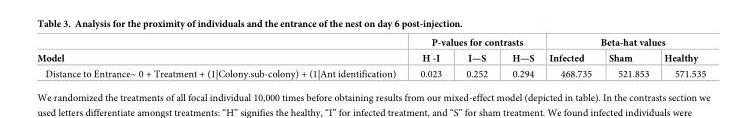table: (36, 37, 705, 78)
table column: (36, 37, 407, 78), (541, 37, 599, 78), (599, 37, 656, 78), (656, 37, 705, 78), (407, 37, 453, 78), (453, 37, 499, 78), (499, 37, 541, 78)
table column header: (36, 37, 705, 65)
table row: (36, 50, 705, 65), (36, 37, 705, 50), (36, 65, 705, 78)
table spanning cell: (36, 37, 407, 65), (541, 37, 705, 50), (407, 37, 541, 50)
